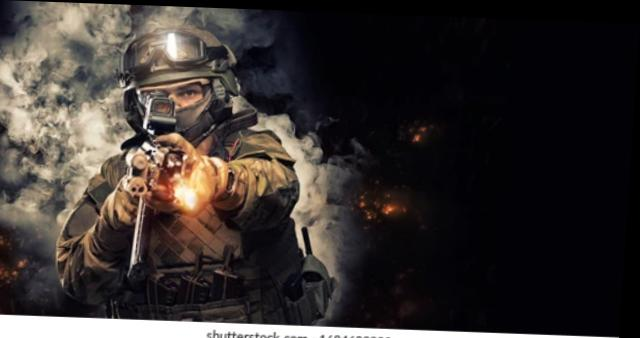other: (63, 28, 309, 313)
